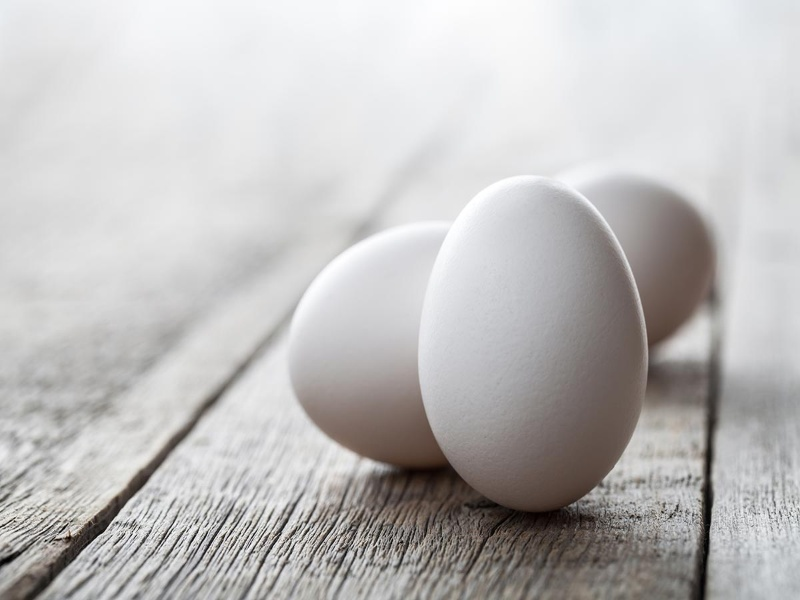Huevo: (418, 175, 649, 515), (288, 219, 496, 470), (559, 169, 716, 351)
